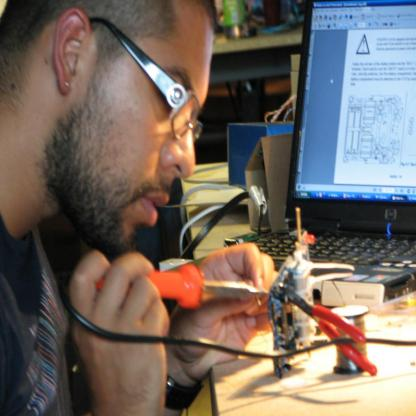board: (224, 1, 416, 301)
